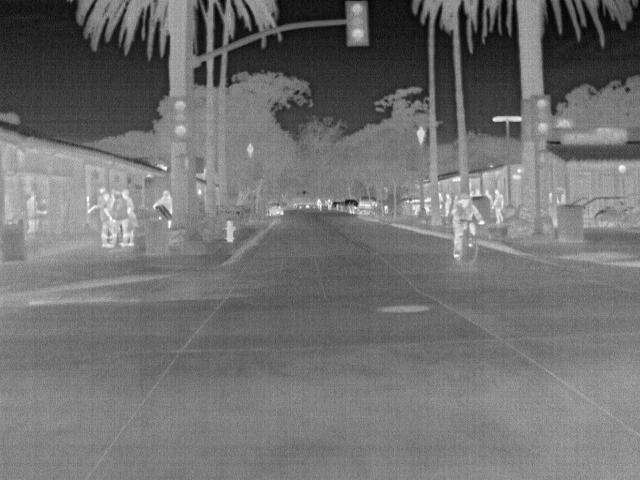car: (267, 200, 288, 218), (356, 195, 372, 215), (347, 198, 360, 214), (342, 198, 355, 213)
person: (449, 195, 486, 258), (108, 190, 129, 248), (25, 190, 49, 232), (97, 184, 113, 246), (159, 187, 175, 225), (492, 188, 506, 222), (325, 197, 334, 211), (315, 197, 324, 211)
